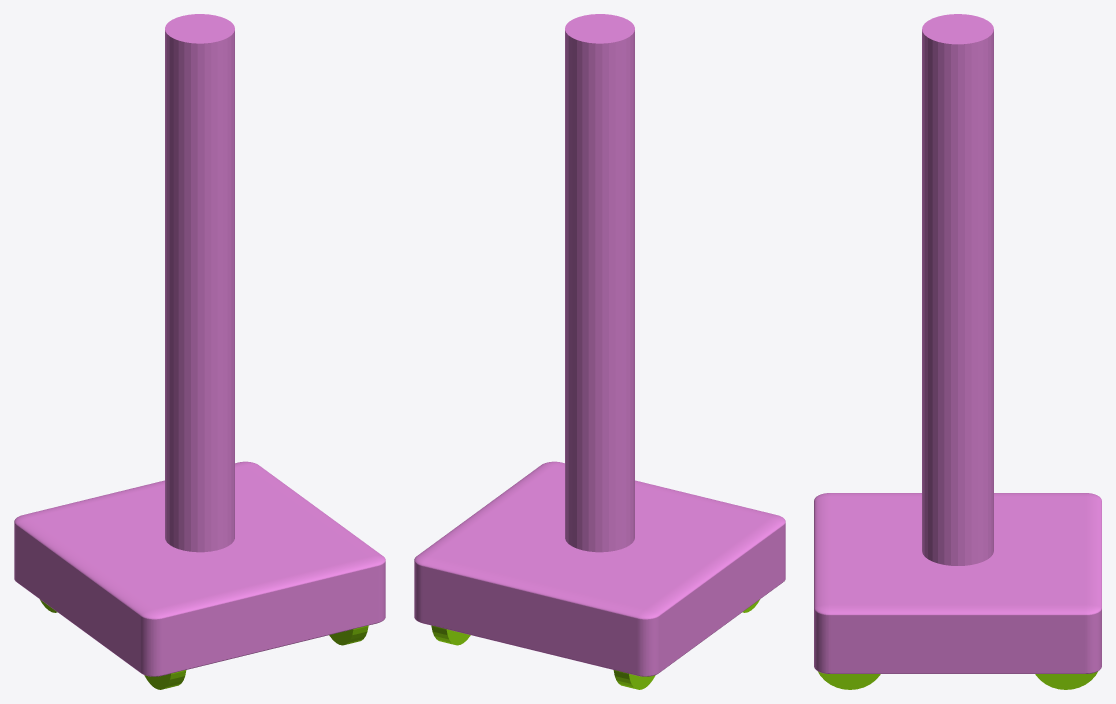
The model's file is MecanumVehicleBase.fbx.
3 views of the same model, side by side, from view 1: azimuth 30°, elevation 25°; view 2: azimuth 150°, elevation 25°; view 3: azimuth 270°, elevation 25° (orthographic). The views are drawn at different scales.
Parts seen in each view (by area): view 1: Body; view 2: Body; view 3: Body, WheelFrontLeft, WheelRearLeft.
Part boxes in pixels (x1=…): Body: x1=14, y1=14, x2=385, y2=676; Body: x1=414, y1=14, x2=785, y2=676; Body: x1=814, y1=14, x2=1101, y2=673; WheelFrontLeft: x1=818, y1=671, x2=880, y2=689; WheelRearLeft: x1=1035, y1=671, x2=1097, y2=689.
Size of what is drawn, in the model's own units: 40 by 93.75 by 40.
